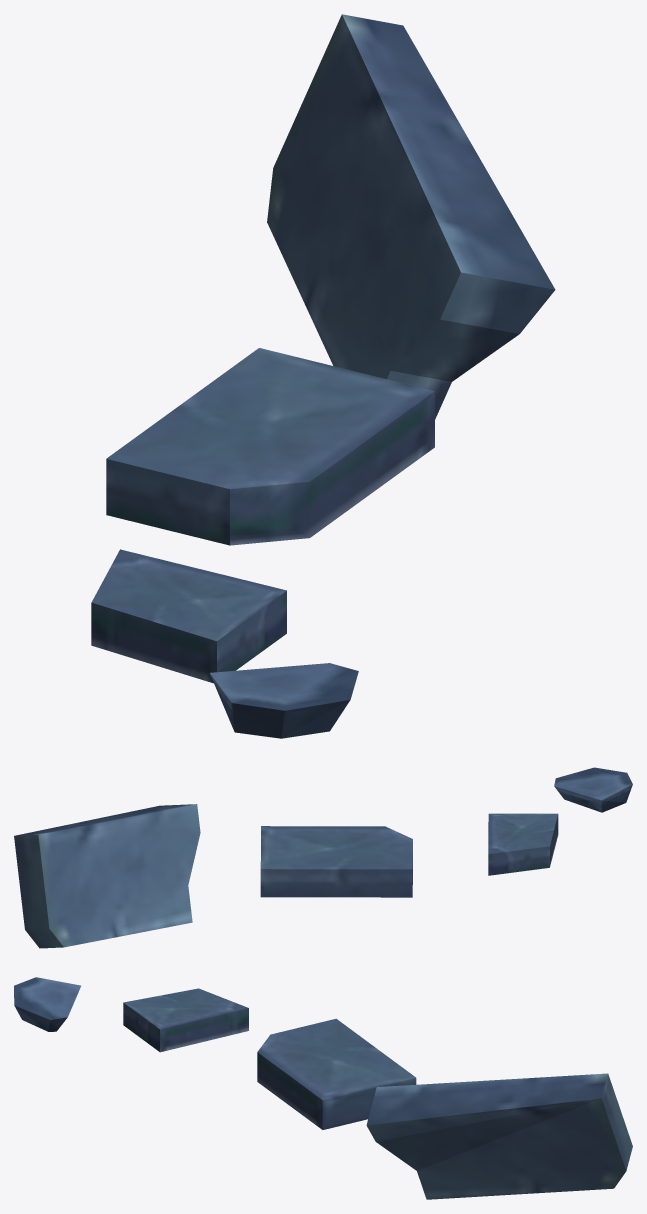
The model's file is Area08_26.fbx.
3 renders of one model, top to bottom at view 1: azimuth 30°, elevation 25°; view 2: azimuth 150°, elevation 25°; view 3: azimuth 270°, elevation 25°, orthographic. The views are drawn at different scales.
Parts seen in each view (by area): view 1: Area08_26; view 2: Area08_26; view 3: Area08_26.
Boxes of the visible parts, x1,y1,x2,y2 form: Area08_26: (91,14,555,738); Area08_26: (14,767,632,948); Area08_26: (14,977,632,1199).
Size of the model in its own units: 535 by 204 by 768.
1 material, 1 textured.
